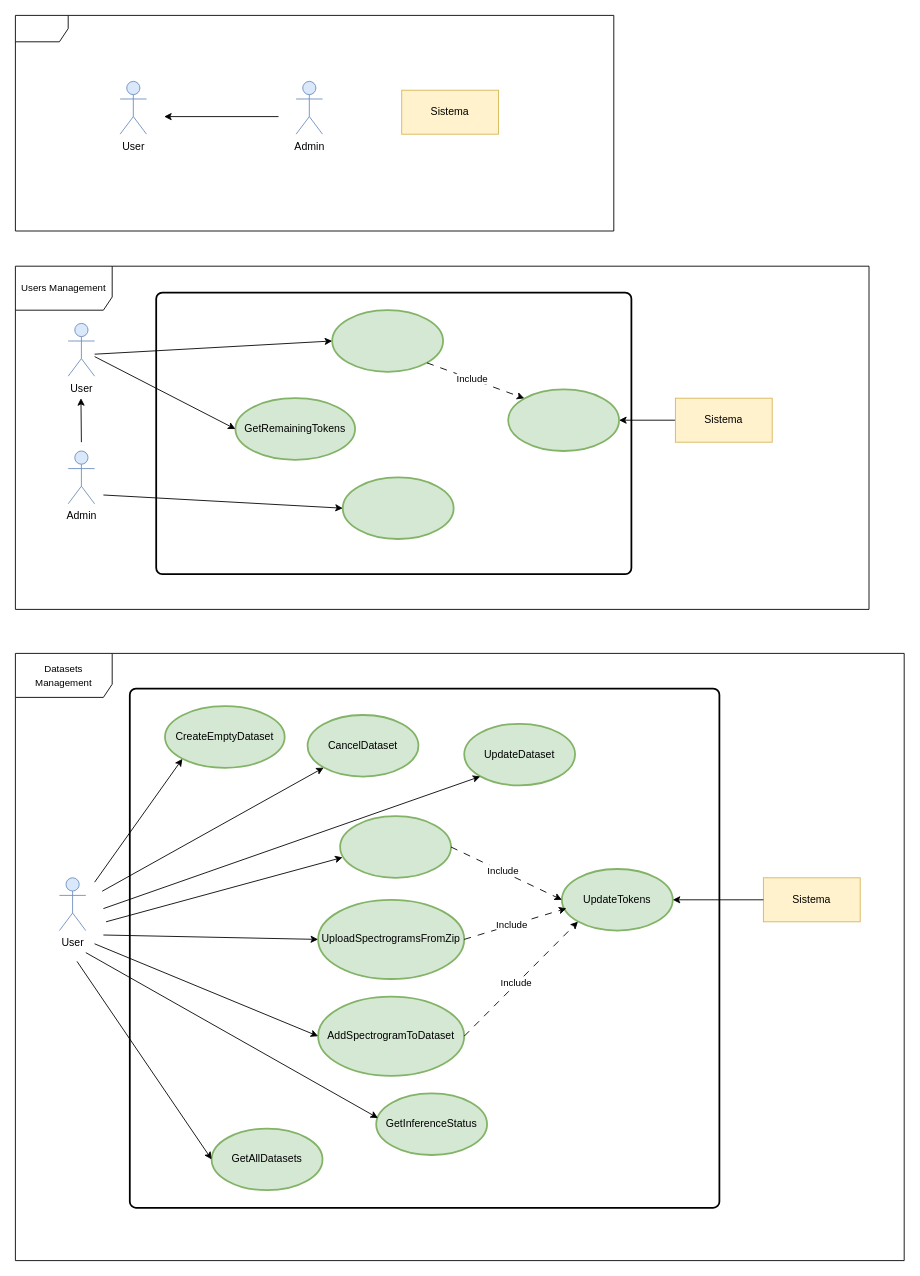
The diagram is 920 pixels wide and 1276 high, and some of its shapes have lost their labels. Each missing label, with the centre of its shape:
Actors: (x=314, y=123)
JWTTokenGeneration: (x=563, y=419)
Login: (x=387, y=340)
Refill Tokens: (x=397, y=507)
StartInference: (x=395, y=846)
